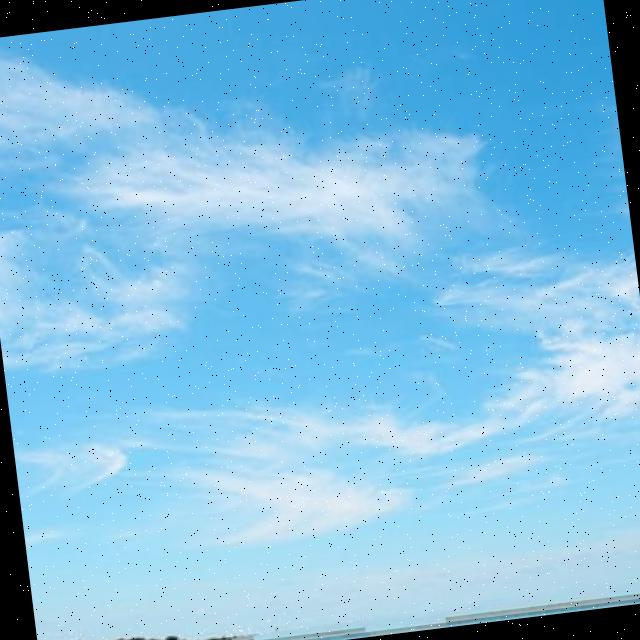Ci: (1, 1, 640, 576)
